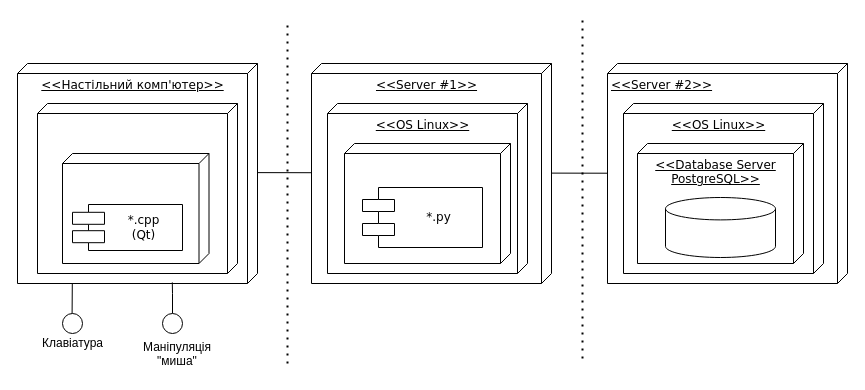
This 865x390 diagram has some shape labels left out. The box of each missing label's shape, as (x1, y1, x2, y2) in pixels:
<<OS Windows OS Linux>>: (36, 102, 238, 274)
<<Python>>: (344, 142, 510, 264)
<<Графічний редактор>>: (62, 152, 209, 264)
Relation Database: (664, 196, 776, 258)
